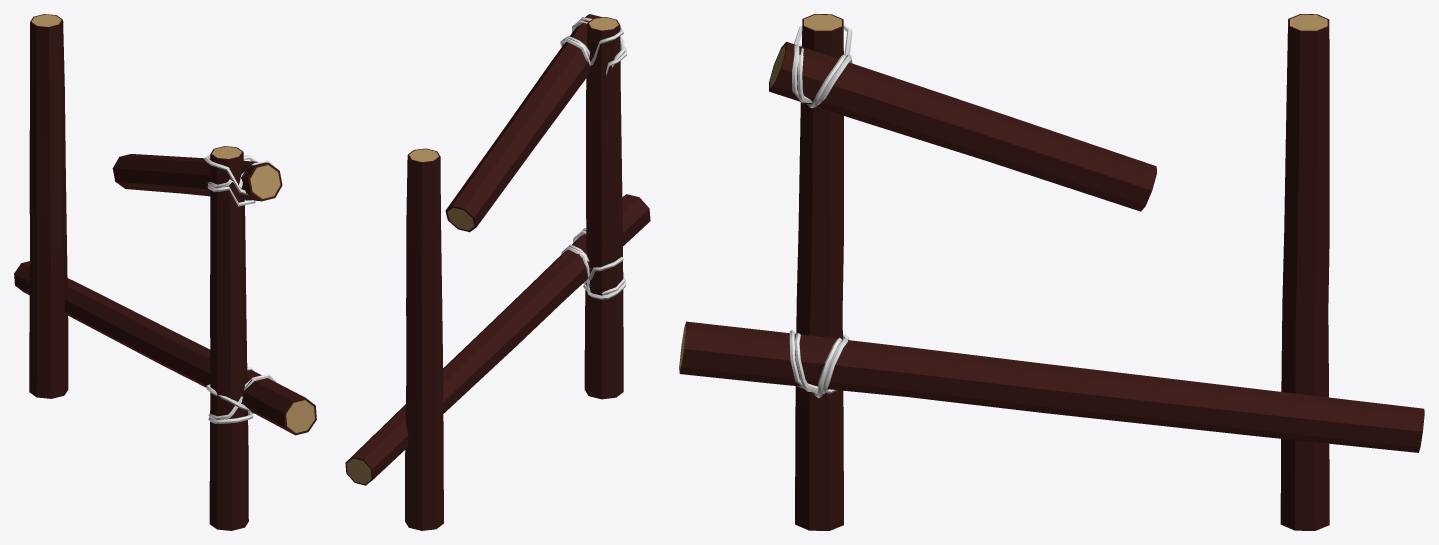
File: SM_Fence_005.fbx
3 views of the same model, side by side, from view 1: azimuth 30°, elevation 25°; view 2: azimuth 150°, elevation 25°; view 3: azimuth 270°, elevation 25° (orthographic). The views are drawn at different scales.
Visible parts, largest first — view 1: Fence; view 2: Fence; view 3: Fence.
Boxes of the visible parts, x1,y1,x2,y2 form: Fence: [14, 14, 316, 530]; Fence: [345, 14, 650, 530]; Fence: [679, 14, 1424, 530].
Size of what is drawn, in the model's own units: 23.6 by 140 by 190.
